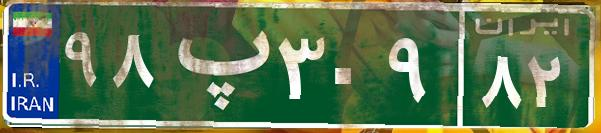0: (330, 28, 385, 110)
2: (525, 38, 570, 115)
3: (273, 28, 330, 110)
8: (475, 38, 525, 113), (110, 28, 158, 105)
9: (385, 28, 445, 110), (57, 26, 110, 107)
پ: (158, 15, 273, 115)
